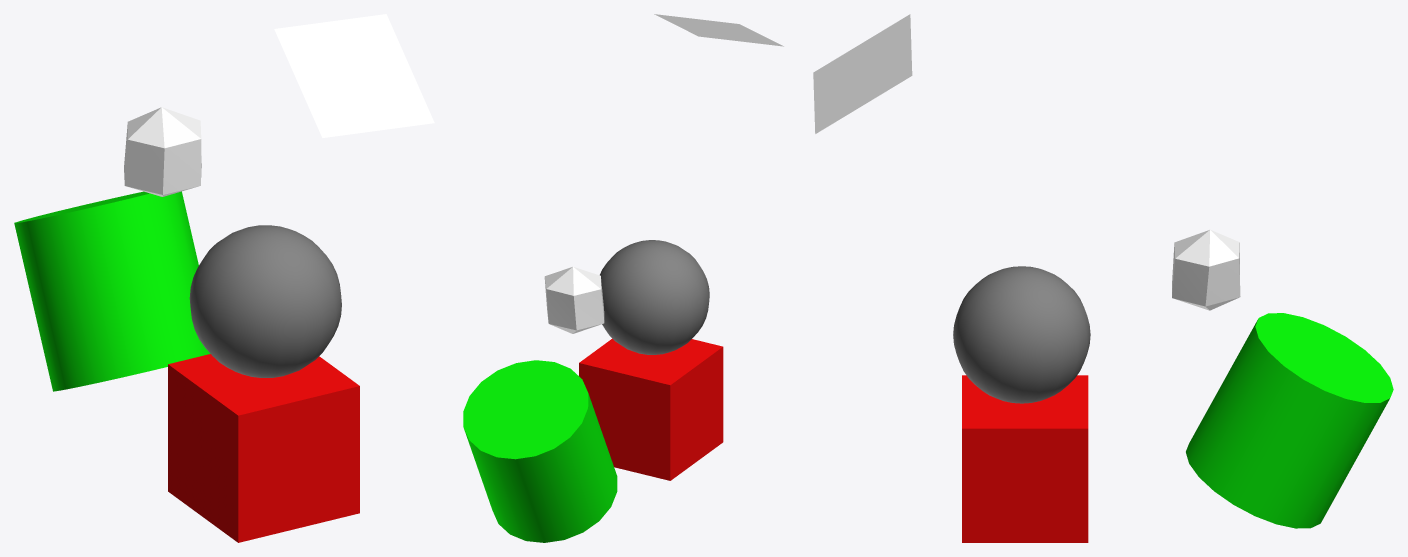
File: flatScene.obj
3 renders of one model, left to right at view 1: azimuth 30°, elevation 25°; view 2: azimuth 150°, elevation 25°; view 3: azimuth 270°, elevation 25°, orthographic. The views are drawn at different scales.
Visible parts, largest first — view 1: pCube2, pCylinder1, pSphere1, pPlane1 group1, pSphere2; view 2: pCylinder1, pCube2, pSphere1, pSphere2, pPlane1 group1; view 3: pCylinder1, pCube2, pSphere1, pPlane1 group1, pSphere2.
Part boxes in pixels (left/top/right/bottom): pCube2: left=168, top=354, right=359, bottom=542; pCylinder1: left=14, top=191, right=210, bottom=391; pSphere1: left=189, top=225, right=341, bottom=377; pPlane1 group1: left=274, top=14, right=434, bottom=137; pSphere2: left=124, top=107, right=201, bottom=196; pCylinder1: left=463, top=360, right=617, bottom=542; pCube2: left=579, top=338, right=723, bottom=480; pSphere1: left=600, top=240, right=709, bottom=354; pSphere2: left=544, top=267, right=604, bottom=333; pPlane1 group1: left=654, top=14, right=783, bottom=46; pCylinder1: left=1186, top=313, right=1393, bottom=528; pCube2: left=962, top=375, right=1088, bottom=542; pSphere1: left=953, top=266, right=1090, bottom=403; pPlane1 group1: left=813, top=14, right=912, bottom=133; pSphere2: left=1172, top=230, right=1240, bottom=310.
Size of what is drawn, in the model's own units: 40.28 by 137 by 151.
